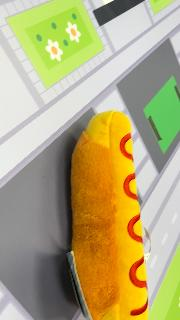hotdog: (68, 110, 150, 318)
